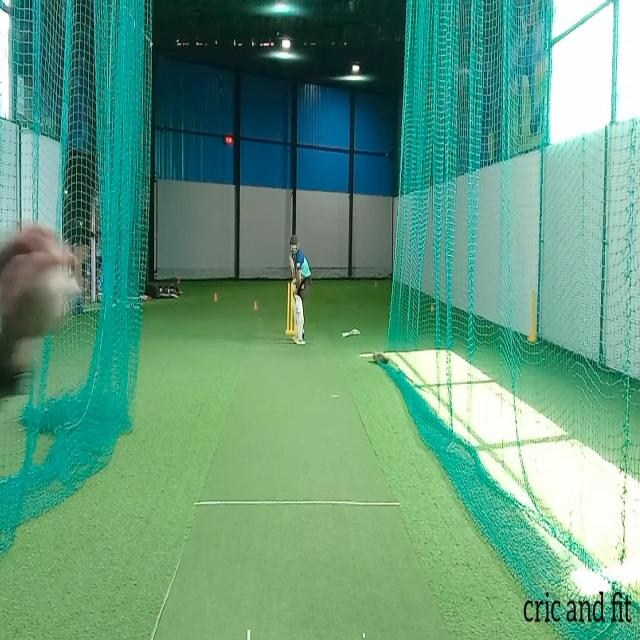batsman: (288, 233, 312, 347)
